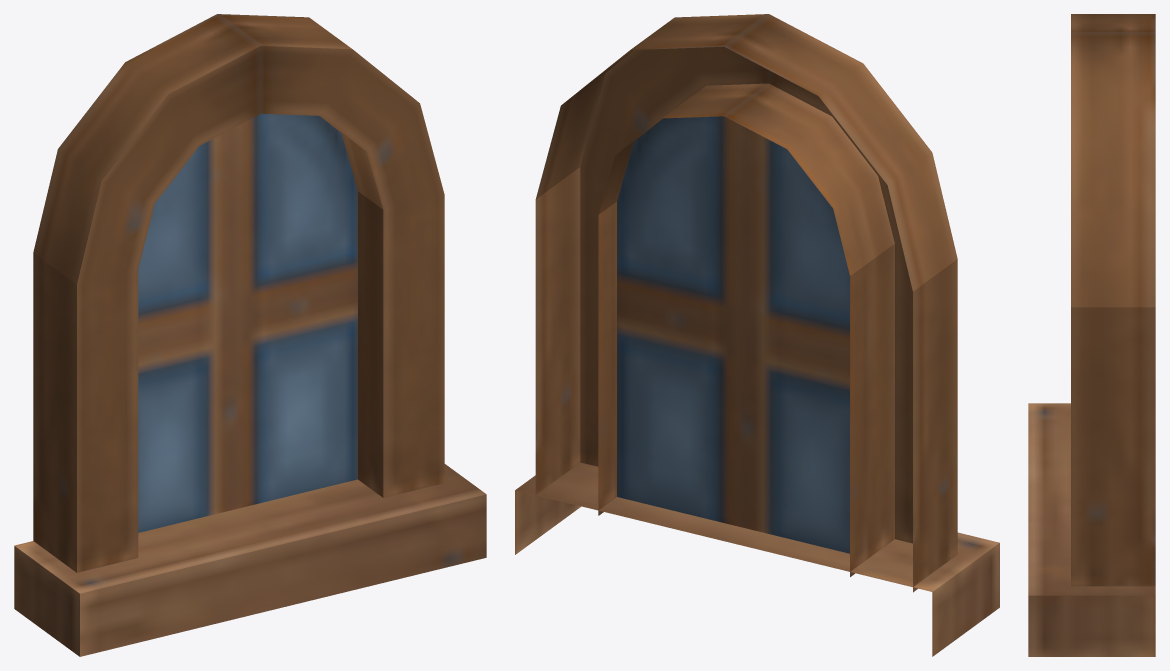
Rendered from paran_house_window.FBX.
3 renders of one model, left to right at view 1: azimuth 30°, elevation 25°; view 2: azimuth 150°, elevation 25°; view 3: azimuth 270°, elevation 25°, orthographic. The views are drawn at different scales.
Parts seen in each view (by area): view 1: Object123; view 2: Object123; view 3: Object123.
Part boxes in pixels (left/top/right/bottom): Object123: left=14, top=14, right=486, bottom=656; Object123: left=515, top=14, right=999, bottom=656; Object123: left=1028, top=14, right=1155, bottom=656.
Bounding box in the file's own units: 21.59 × 27.65 × 6.04.
